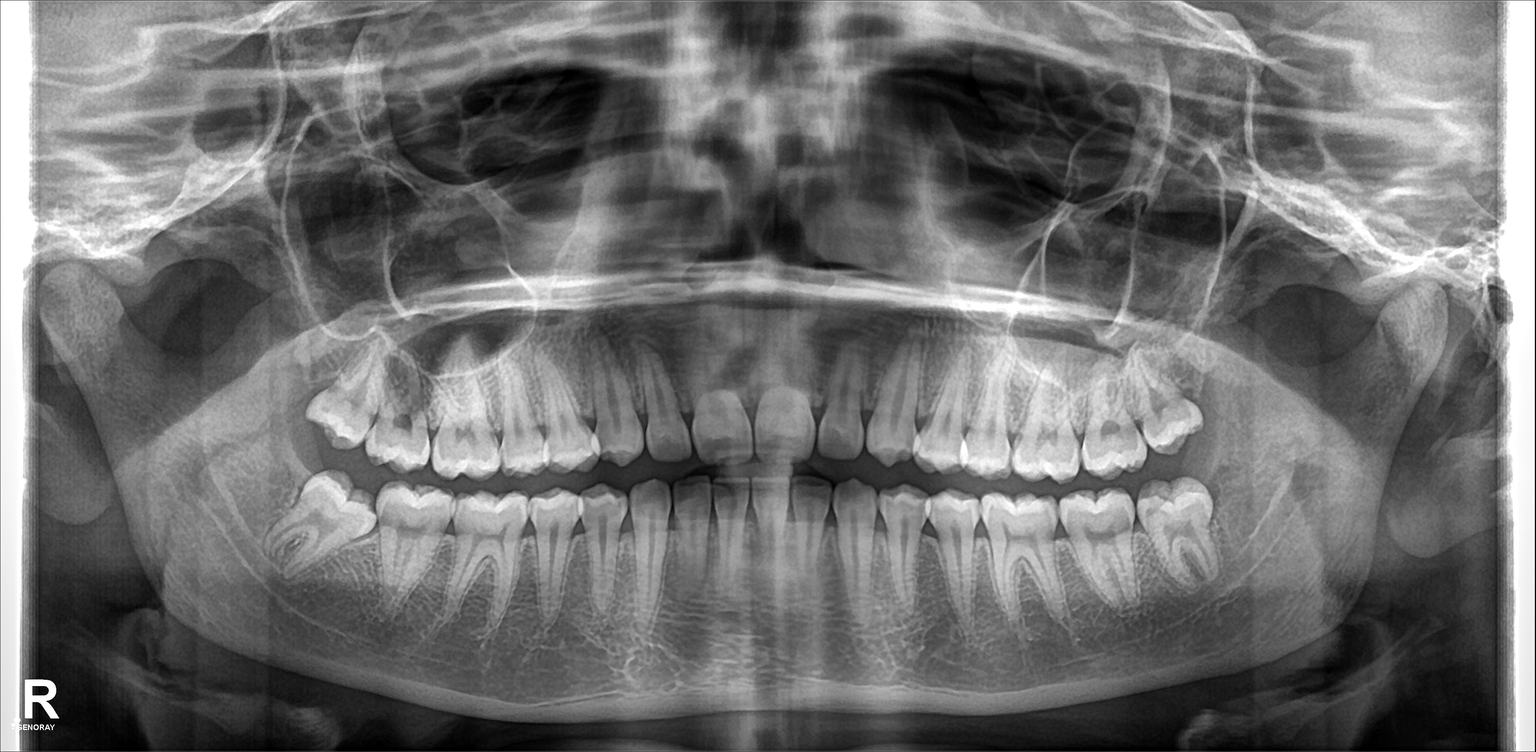Dental Caries: (385, 404, 425, 438), (1095, 411, 1128, 435)
Impacted Third Molar: (276, 482, 372, 573), (1130, 367, 1210, 450)
